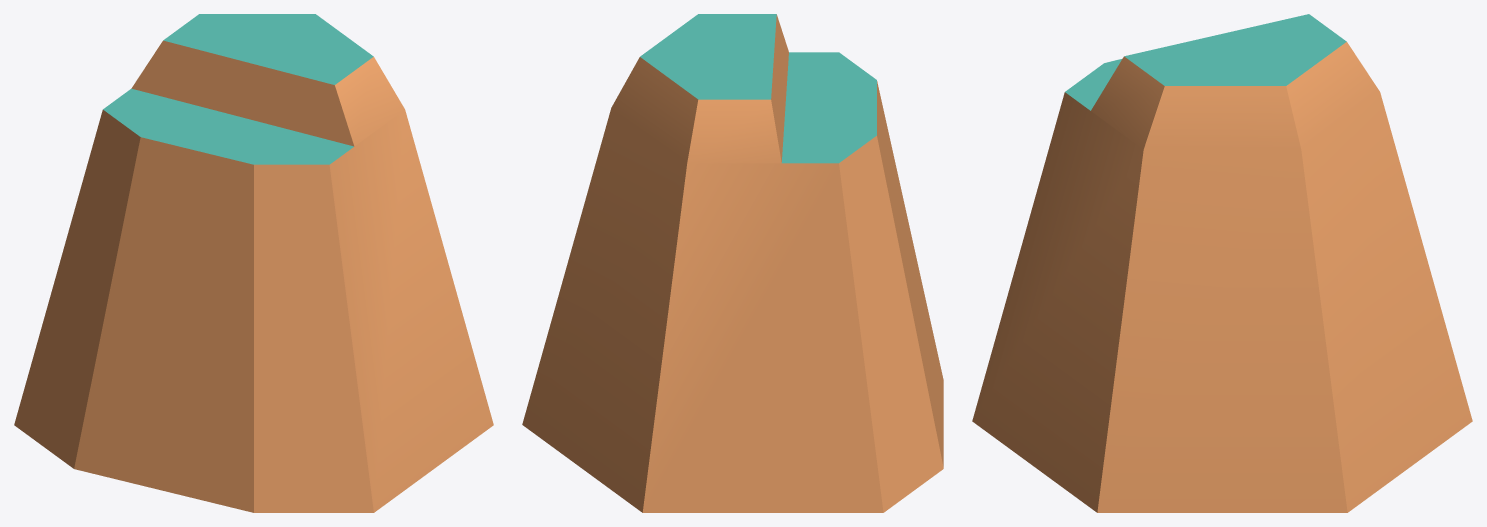
The model's file is rock_tall5.fbx.
3 views of the same model, side by side, from view 1: azimuth 30°, elevation 25°; view 2: azimuth 150°, elevation 25°; view 3: azimuth 270°, elevation 25° (orthographic). The views are drawn at different scales.
Visible parts, largest first — view 1: rock_tall5; view 2: rock_tall5; view 3: rock_tall5.
Part boxes in pixels (x1,y1,x2,y2): rock_tall5: (14,14,493,512); rock_tall5: (522,14,943,512); rock_tall5: (972,14,1472,512).
Size of the model in its own units: 4.56 by 4.44 by 5.27.
